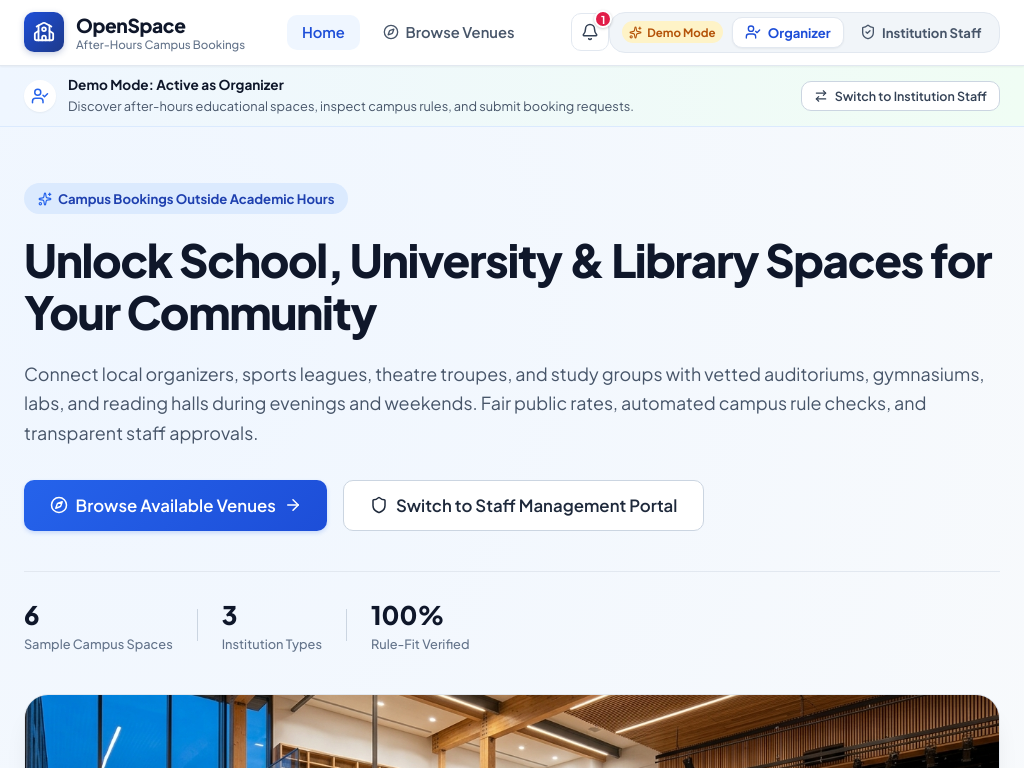
Test: App Navigation and Shell Integration › navigates back to Home when clicking Home in the navbar
The image size is (1024, 768).
Click the button "Browse Venues". click: [449, 32]
box: left=368, top=15, right=530, bottom=50
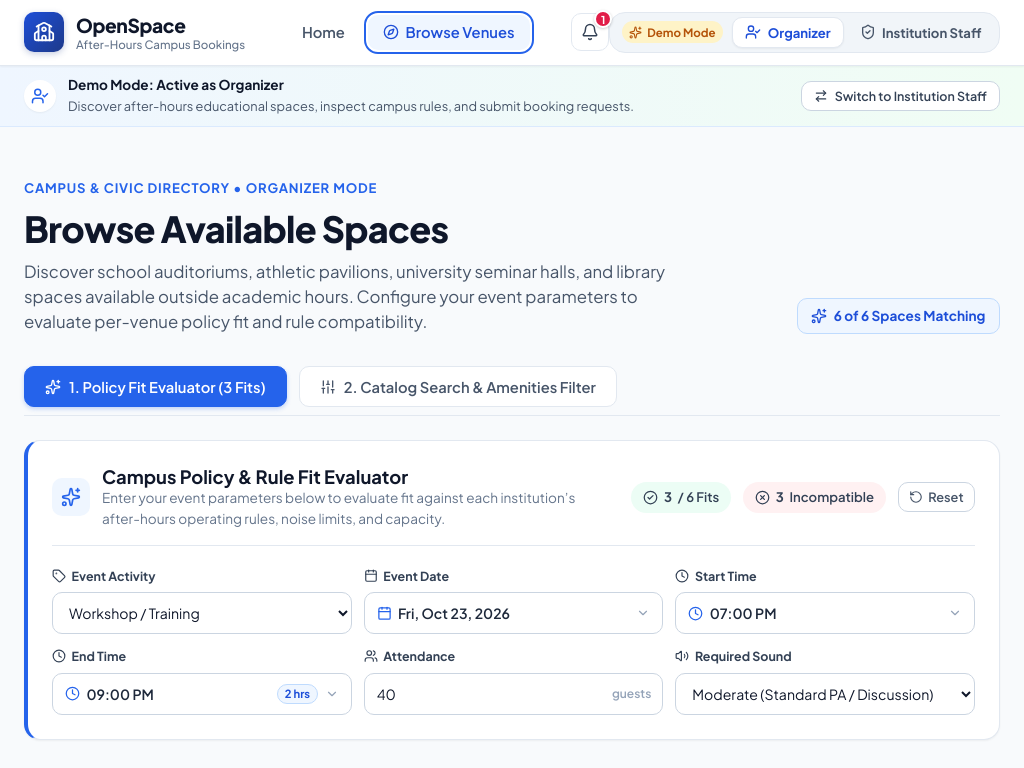
Result: the heading "Browse Available Spaces" is shown at left=24, top=206, right=448, bottom=251
Click the button "Home". click: [323, 32]
box: left=287, top=15, right=360, bottom=50
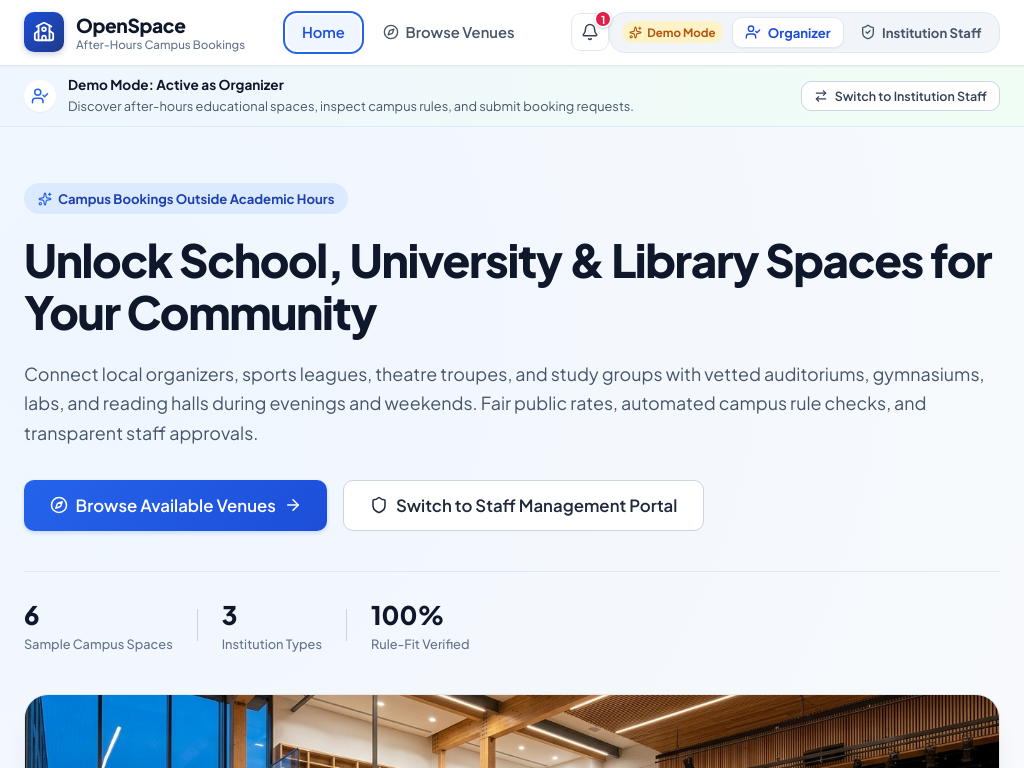
Result: the heading "Unlock School, University & Library Spaces for Your Community" is shown at left=24, top=234, right=1000, bottom=339
